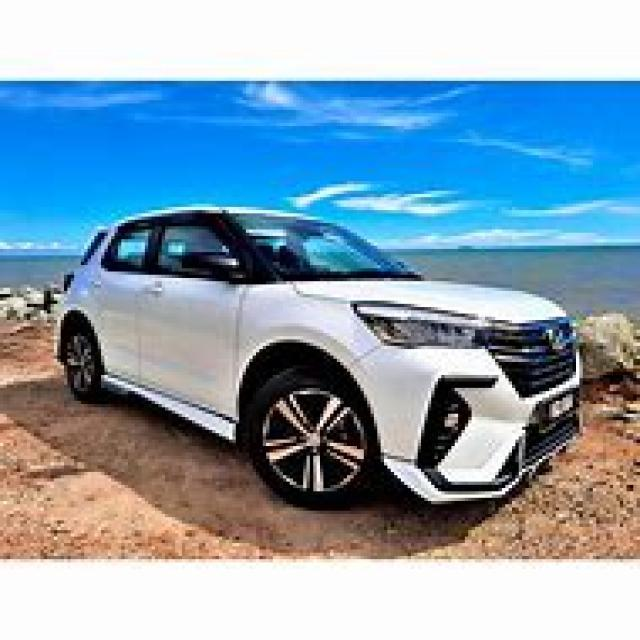PeroduaAtiva: (51, 200, 586, 510)
